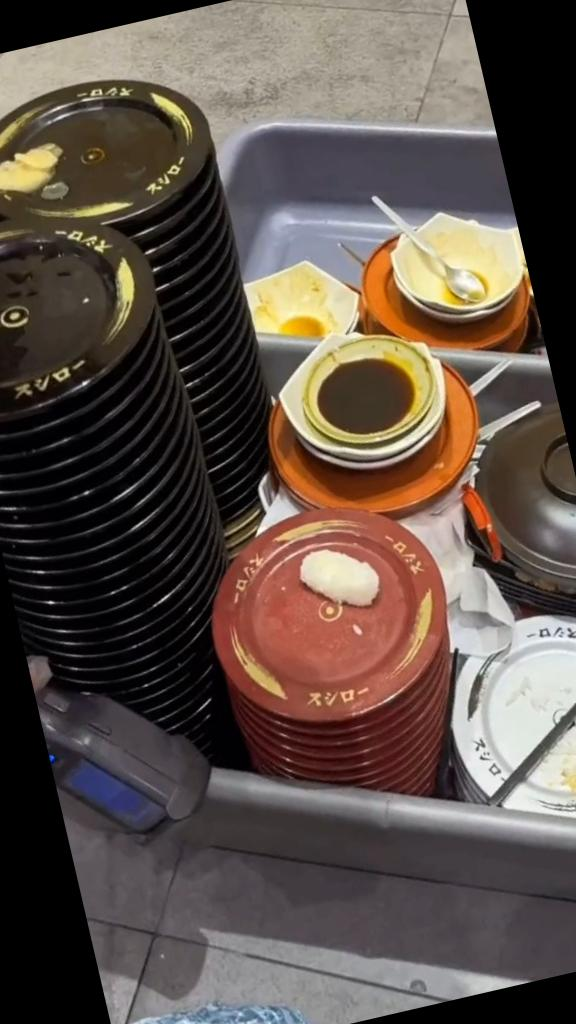Janback: (0, 57, 224, 241), (0, 213, 136, 396), (0, 422, 127, 470), (0, 383, 111, 433), (0, 469, 120, 509), (0, 407, 110, 450), (0, 449, 109, 492), (9, 503, 120, 542), (38, 548, 152, 584), (25, 524, 125, 558), (11, 490, 114, 520), (51, 584, 136, 616), (32, 542, 120, 572), (42, 570, 123, 602), (127, 204, 195, 242), (148, 226, 214, 258), (199, 415, 246, 448), (193, 386, 246, 414), (189, 368, 246, 394), (155, 266, 211, 290), (168, 294, 218, 318), (178, 315, 226, 340), (164, 283, 219, 303), (154, 254, 202, 274), (214, 457, 253, 481), (208, 444, 250, 466), (197, 406, 248, 424), (221, 472, 262, 494), (226, 483, 259, 510), (204, 436, 251, 452), (179, 355, 217, 372), (180, 338, 216, 354)
Janred: (234, 509, 444, 707), (292, 706, 404, 744), (312, 734, 407, 766), (305, 723, 401, 752), (320, 752, 397, 774), (348, 756, 414, 776), (364, 764, 414, 785), (381, 770, 427, 790)
